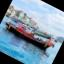fishing boat: (0, 13, 59, 56)
